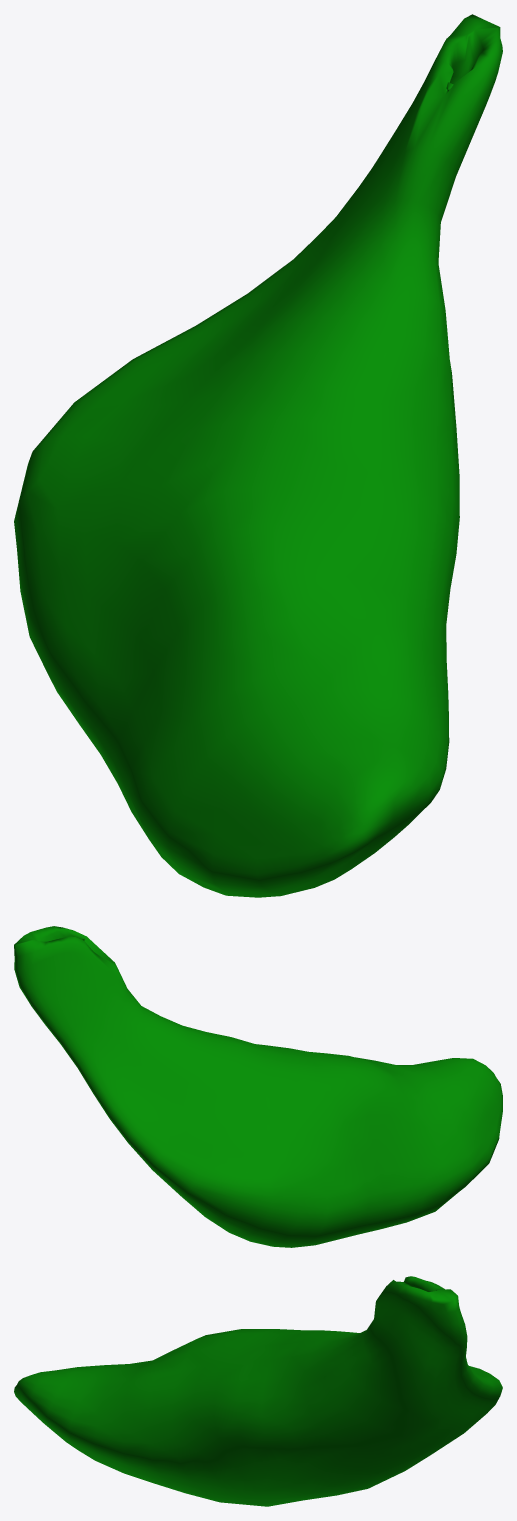
Rendered from gallbladder.glb.
3 views of the same model, one above another, from view 1: azimuth 30°, elevation 25°; view 2: azimuth 150°, elevation 25°; view 3: azimuth 270°, elevation 25° (orthographic). The views are drawn at different scales.
Parts seen in each view (by area): view 1: VH_F_gallbladder; view 2: VH_F_gallbladder; view 3: VH_F_gallbladder.
Part boxes in pixels (x1=…): VH_F_gallbladder: x1=14, y1=14, x2=502, y2=897; VH_F_gallbladder: x1=14, y1=926, x2=502, y2=1247; VH_F_gallbladder: x1=14, y1=1276, x2=502, y2=1506.
Bounding box in the file's own units: 0.0409 × 0.0379 × 0.052.
